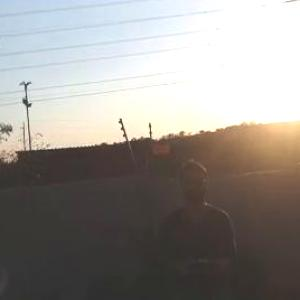follow: (153, 147, 241, 299)
